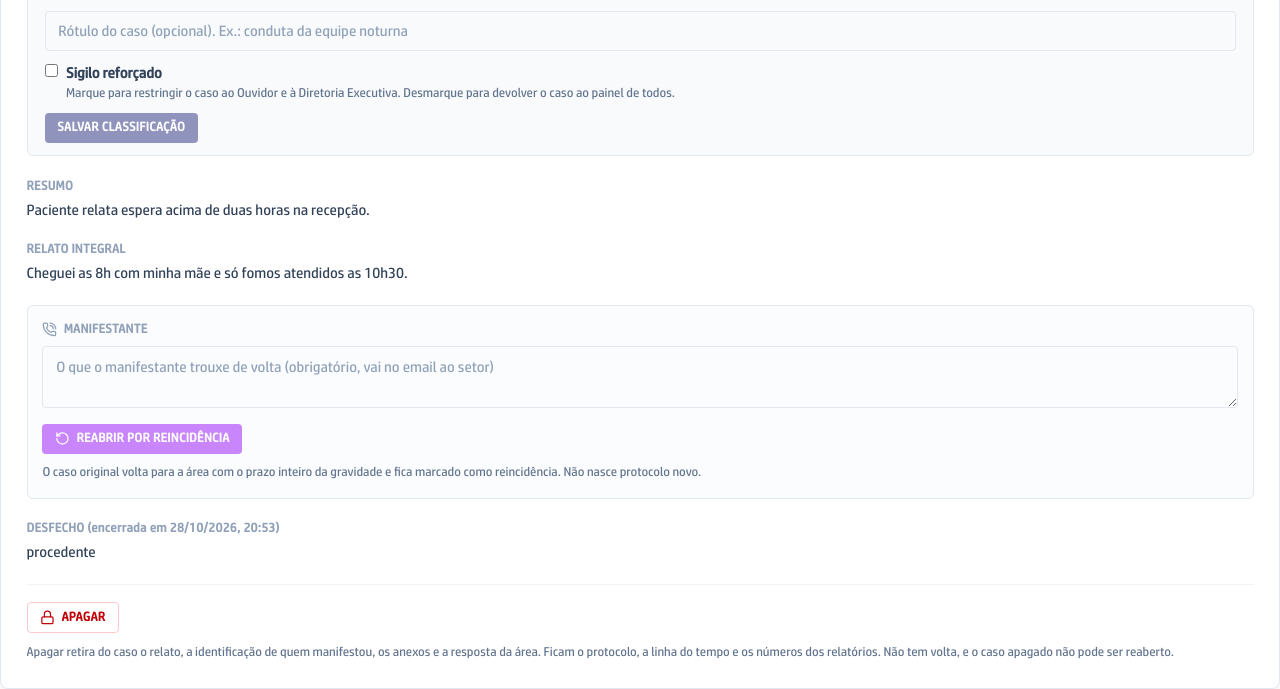
Test: a confirmação com motivo obrigatório (issue #595) › a recusa do servidor aparece DENTRO do modal, e não embaixo dele
(page scrolled)
Click the button "Apagar".
click(73, 617)  # box [26,602,119,633]
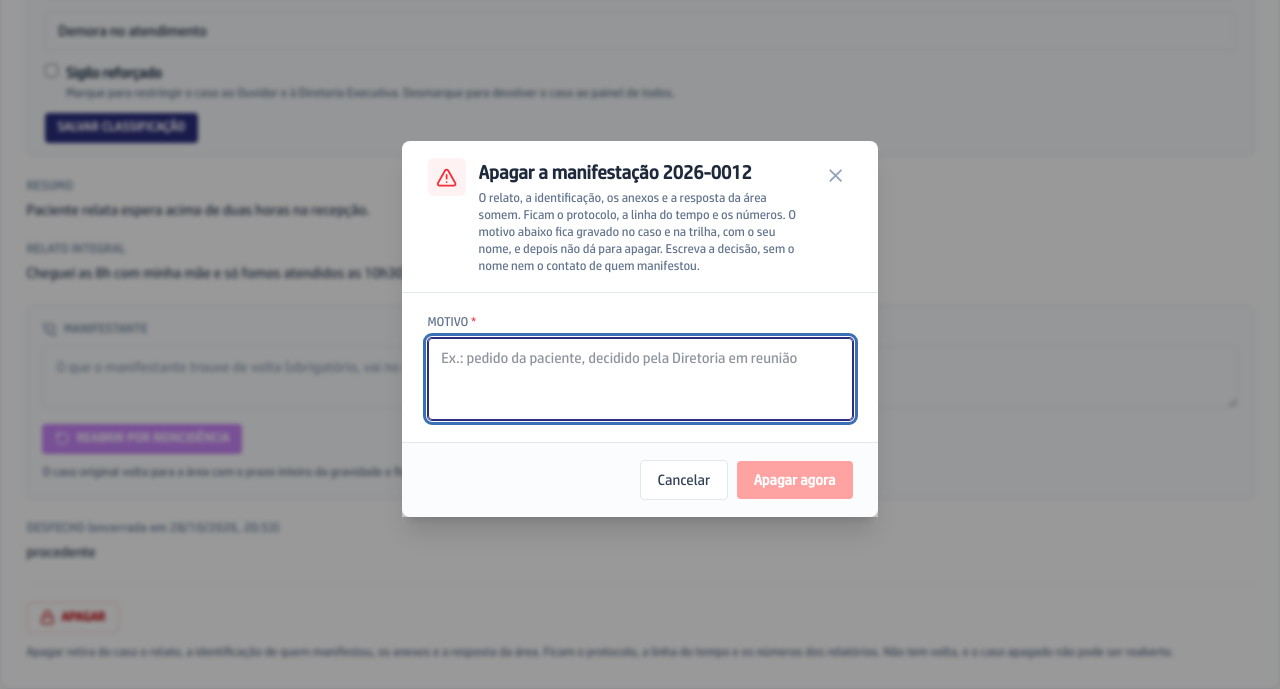
Type "Pedido da paciente, com decisão da Diretoria em 08/09/2026." into the text box labelled "Motivo *".
click(640, 379); type("Pedido da paciente, com decisão da Diretoria em 08/09/2026.")  # box [428,338,852,420]
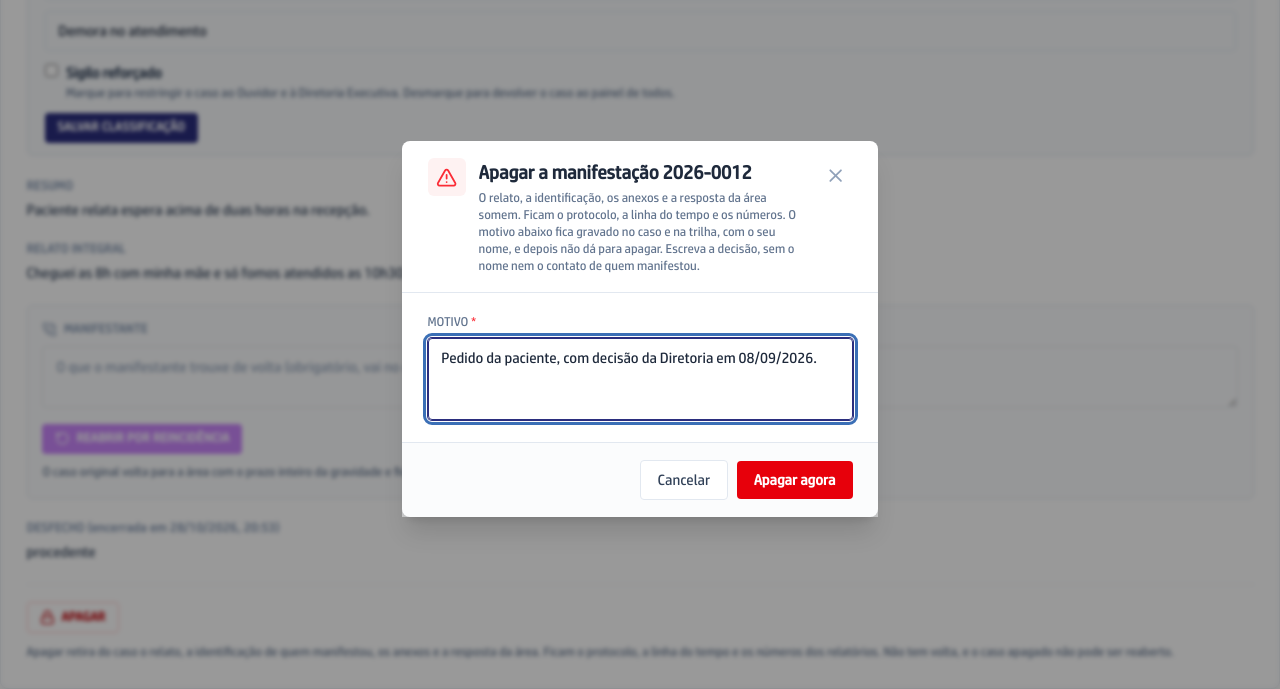
Click the button "Apagar agora".
click(795, 480)  # box [737,461,852,499]
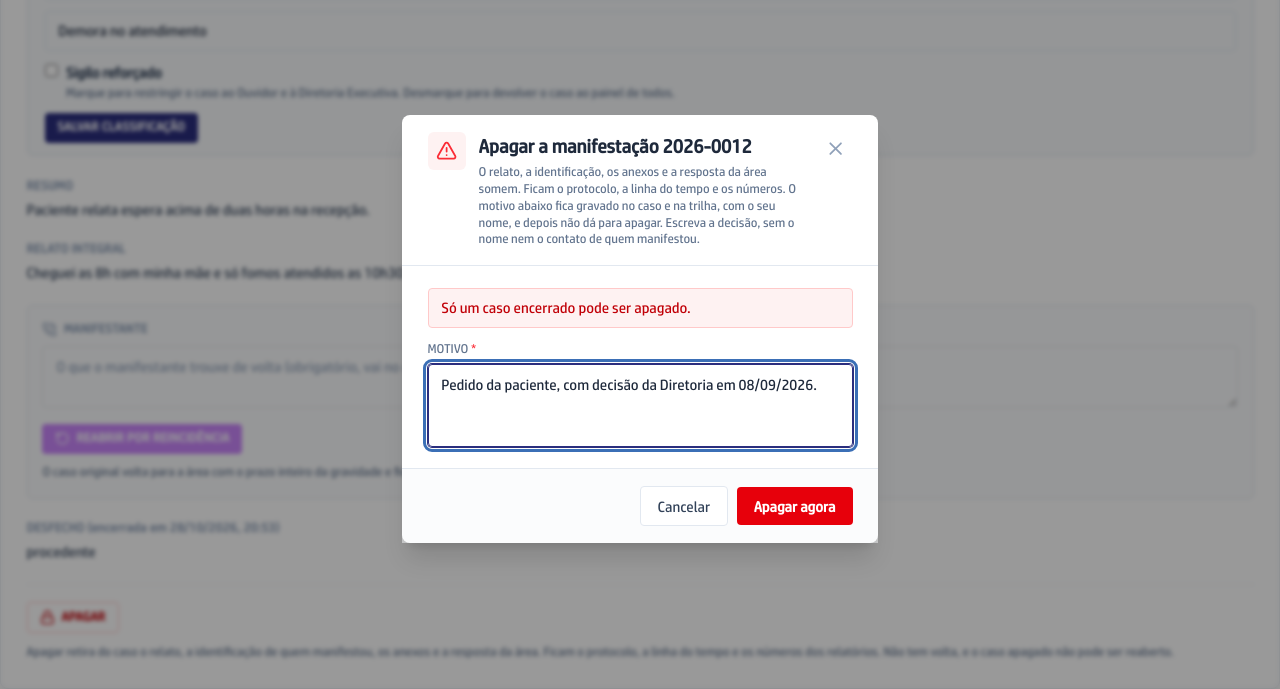
Expected: the text "Só um caso encerrado pode ser apagado." is shown, [428,288,852,328]
